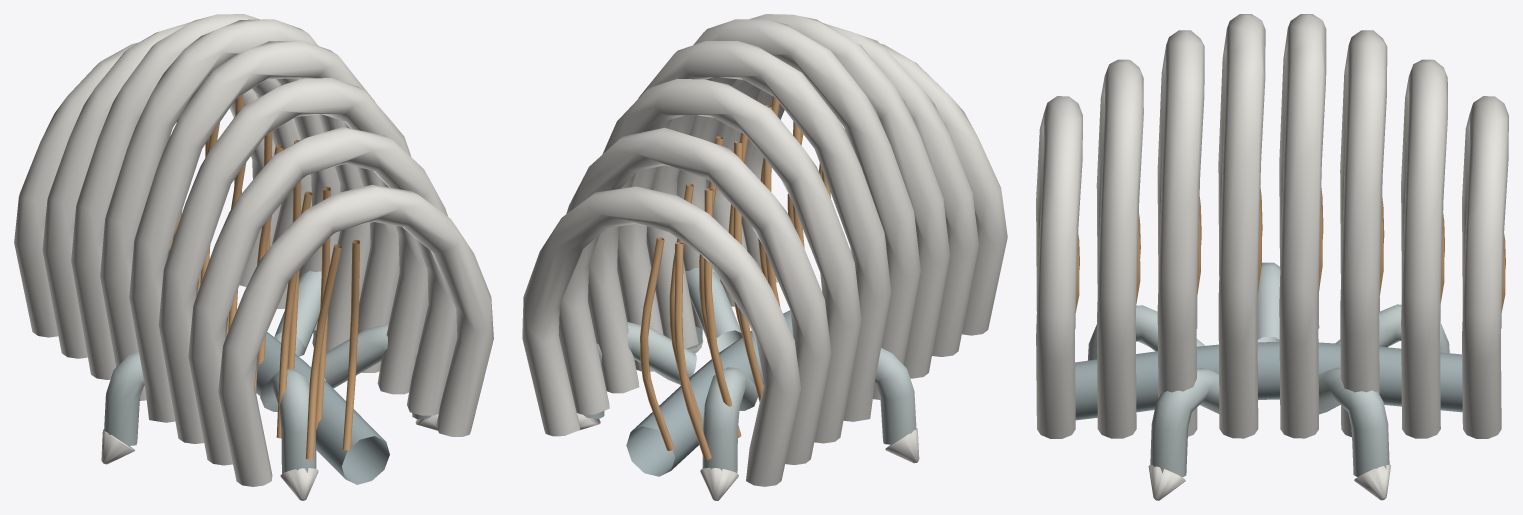
File: bio_blind_harp_10_far.glb
The picture shows the model from 3 angles, left to right: view 1: azimuth 30°, elevation 25°; view 2: azimuth 150°, elevation 25°; view 3: azimuth 270°, elevation 25°; orthographic projection. The views are drawn at different scales.
Parts seen in each view (by area): view 1: Open rib arch, Open rib arch.002, Open rib arch.001, Open rib arch.003, Open rib arch.004, Open rib arch.005, Open rib arch.006, Open rib arch.007, Low axial spine, Resonance filament, Crooked support.002, Crooked support.001 (+8 smaller); view 2: Open rib arch.007, Open rib arch.005, Open rib arch.006, Open rib arch.004, Open rib arch.003, Open rib arch.002, Open rib arch.001, Open rib arch, Low axial spine, Resonance filament.014, Crooked support, Crooked support.001 (+8 smaller); view 3: Open rib arch.004, Open rib arch.003, Open rib arch.006, Open rib arch.001, Open rib arch.005, Open rib arch.002, Open rib arch, Open rib arch.007, Low axial spine, Crooked support.003, Crooked support.004, Crooked support.001 (+4 smaller).
Part boxes in pixels (left/top/right/bottom): Open rib arch: left=218, top=185, right=493, bottom=486; Open rib arch.002: left=158, top=78, right=428, bottom=443; Open rib arch.001: left=188, top=127, right=457, bottom=465; Open rib arch.003: left=129, top=40, right=399, bottom=422; Open rib arch.004: left=100, top=19, right=370, bottom=400; Open rib arch.005: left=71, top=14, right=340, bottom=379; Open rib arch.006: left=42, top=22, right=311, bottom=358; Open rib arch.007: left=14, top=42, right=281, bottom=337; Low axial spine: left=256, top=332, right=389, bottom=484; Resonance filament: left=306, top=239, right=359, bottom=459; Crooked support.002: left=260, top=368, right=316, bottom=473; Crooked support.001: left=104, top=350, right=144, bottom=445; Open rib arch.007: left=522, top=186, right=800, bottom=486; Open rib arch.005: left=588, top=78, right=861, bottom=443; Open rib arch.006: left=559, top=127, right=831, bottom=464; Open rib arch.004: left=617, top=41, right=891, bottom=421; Open rib arch.003: left=646, top=19, right=920, bottom=399; Open rib arch.002: left=677, top=14, right=949, bottom=378; Open rib arch.001: left=706, top=23, right=978, bottom=356; Open rib arch: left=741, top=43, right=1007, bottom=335; Low axial spine: left=626, top=310, right=792, bottom=476; Resonance filament.014: left=640, top=237, right=711, bottom=460; Crooked support: left=702, top=367, right=757, bottom=473; Crooked support.001: left=874, top=348, right=916, bottom=444; Open rib arch.004: left=1279, top=14, right=1326, bottom=438; Open rib arch.003: left=1218, top=14, right=1265, bottom=438; Open rib arch.006: left=1401, top=59, right=1447, bottom=438; Open rib arch.001: left=1096, top=59, right=1143, bottom=438; Open rib arch.005: left=1340, top=30, right=1387, bottom=437; Open rib arch.002: left=1157, top=30, right=1204, bottom=436; Open rib arch: left=1036, top=96, right=1082, bottom=438; Open rib arch.007: left=1462, top=96, right=1508, bottom=438; Low axial spine: left=1075, top=342, right=1462, bottom=420; Crooked support.003: left=1150, top=368, right=1219, bottom=477; Crooked support.004: left=1318, top=367, right=1389, bottom=476; Crooked support.001: left=1257, top=262, right=1280, bottom=342.
Size of the model in its own units: 1.83 by 2.32 by 2.44.
